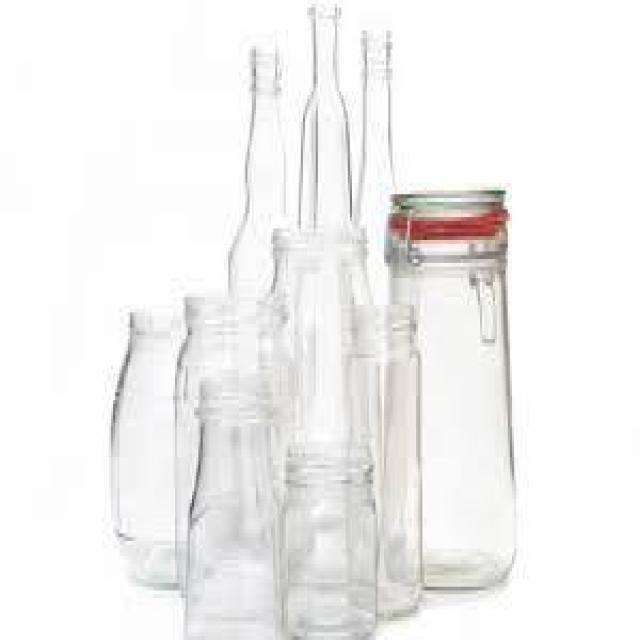Glass: (382, 187, 518, 594), (172, 292, 292, 630), (261, 226, 380, 456), (344, 300, 424, 620), (111, 306, 190, 594), (278, 442, 381, 640)
